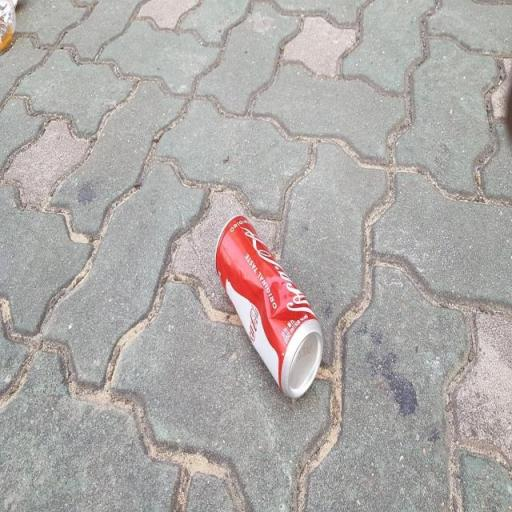metal: (206, 206, 328, 406)
